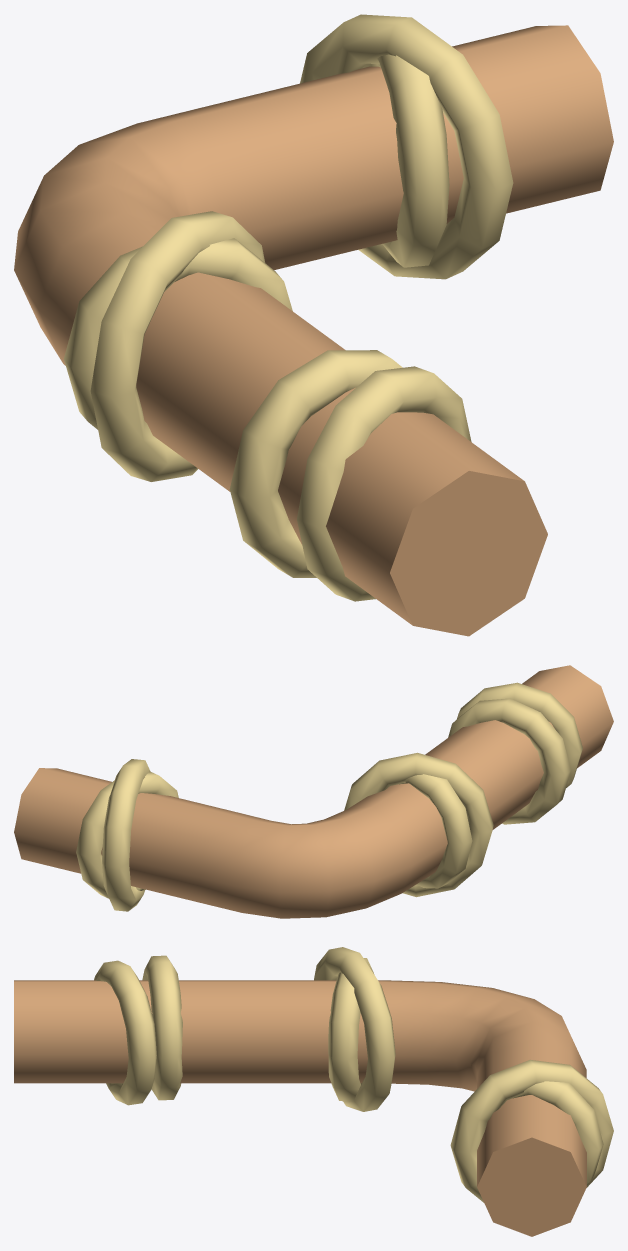
File: Esquina 03.fbx
3 views of the same model, one above another, from view 1: azimuth 30°, elevation 25°; view 2: azimuth 150°, elevation 25°; view 3: azimuth 270°, elevation 25° (orthographic). The views are drawn at different scales.
Visible parts, largest first — view 1: NurbsPath.001; view 2: NurbsPath.001; view 3: NurbsPath.001.
Part boxes in pixels (x1,y1,x2,y2): NurbsPath.001: (14,14,613,636); NurbsPath.001: (14,665,613,918); NurbsPath.001: (14,947,613,1236).
Size of the model in its own units: 148 by 54.53 by 197.
